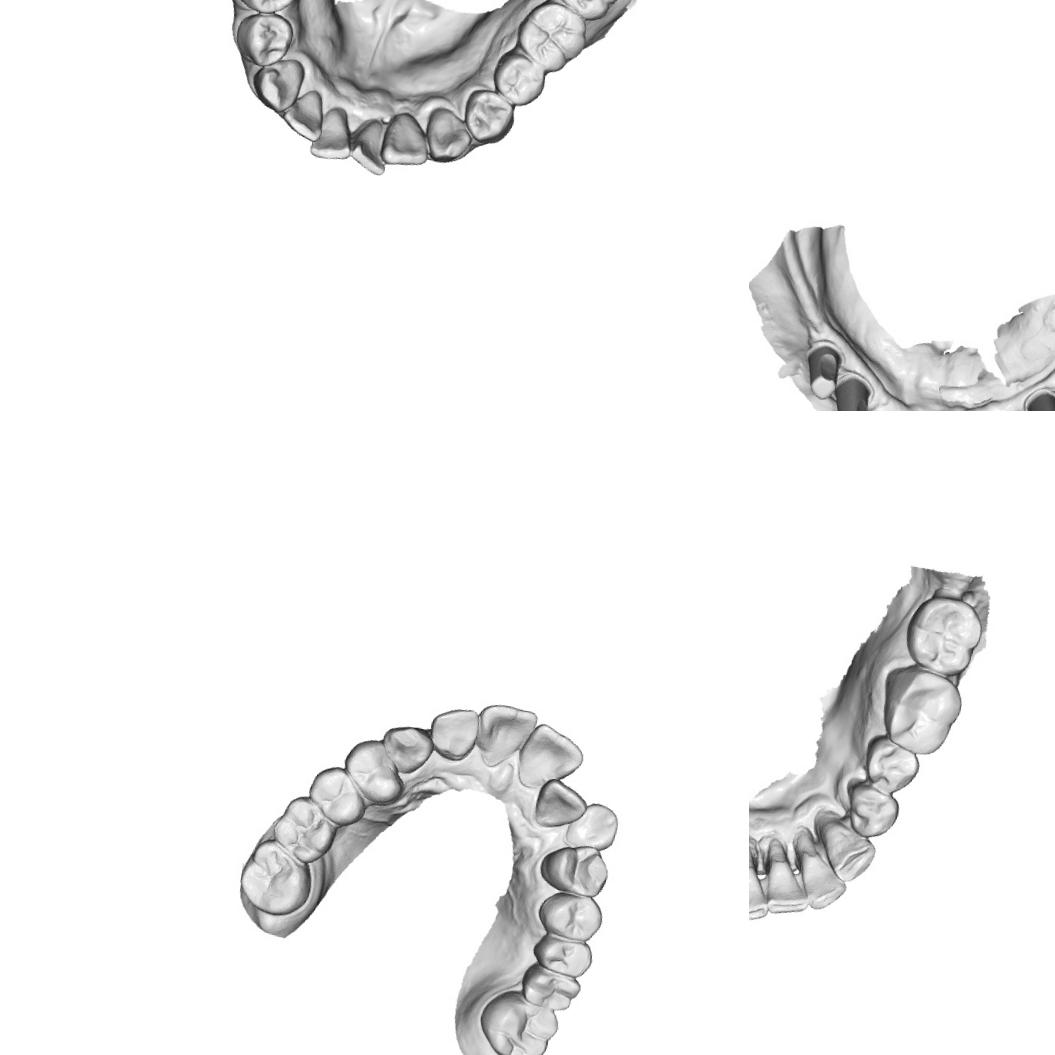abutment: (798, 338, 846, 408), (828, 370, 880, 411), (1018, 385, 1055, 411)
canine: (536, 837, 614, 900), (247, 51, 306, 115), (376, 720, 438, 779), (820, 822, 878, 885), (421, 105, 477, 168)
incisor: (512, 718, 588, 798), (470, 700, 540, 773), (792, 843, 854, 915), (756, 852, 812, 920), (530, 774, 592, 835), (376, 108, 435, 172), (424, 702, 482, 766), (561, 797, 622, 855), (345, 114, 393, 178), (308, 103, 358, 164), (279, 84, 328, 144), (749, 852, 775, 928)
molar: (877, 661, 969, 762), (900, 588, 988, 682), (233, 834, 318, 923), (473, 985, 564, 1055), (511, 0, 592, 76), (266, 790, 341, 868), (517, 961, 584, 1014), (550, 0, 628, 25)
premolar: (337, 734, 411, 808), (303, 761, 373, 832), (230, 5, 297, 70), (488, 47, 551, 111), (534, 888, 606, 943), (459, 85, 519, 148), (528, 929, 597, 982), (863, 734, 920, 798), (843, 778, 900, 840), (231, 0, 304, 19)
